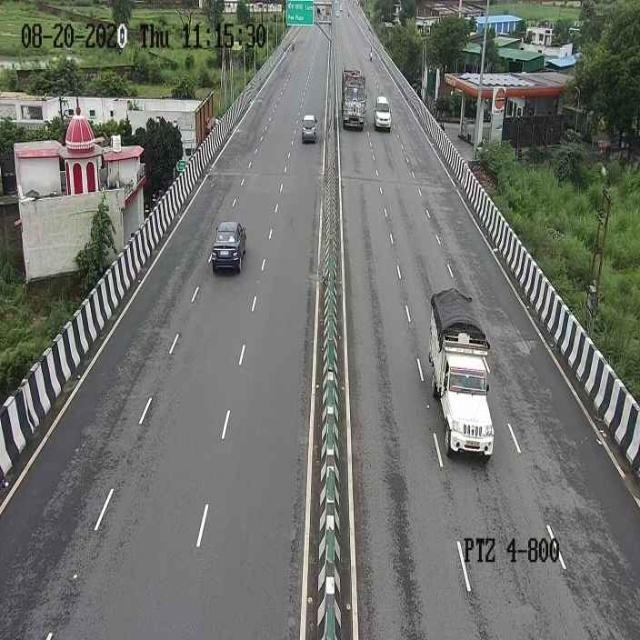car: (425, 285, 498, 463), (206, 218, 250, 275), (371, 92, 395, 133), (295, 109, 320, 146)
